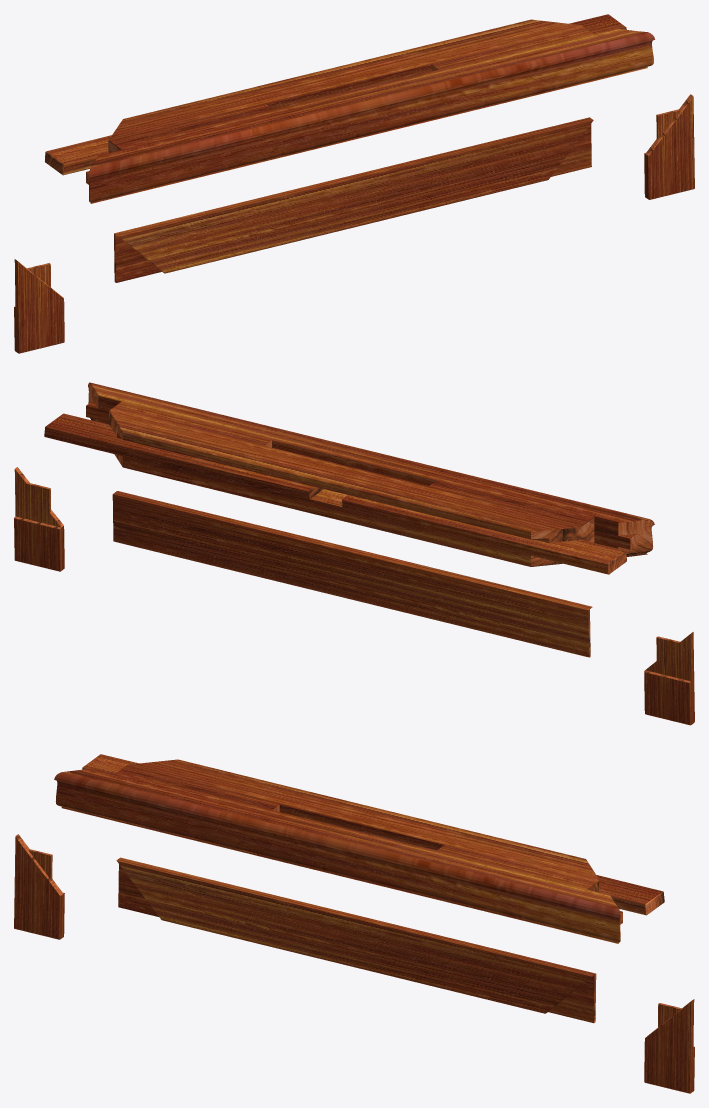
File: GMY_J_dabian_02.FBX
3 views of the same model, one above another, from view 1: azimuth 30°, elevation 25°; view 2: azimuth 150°, elevation 25°; view 3: azimuth 330°, elevation 25° (orthographic).
Parts seen in each view (by area): view 1: GMY_J_dabian_02, GMY_J_houyatiao, GMY_J_houyatou_01, GMY_J_houyatou_02; view 2: GMY_J_dabian_02, GMY_J_houyatiao, GMY_J_houyatou_01, GMY_J_houyatou_02; view 3: GMY_J_dabian_02, GMY_J_houyatiao, GMY_J_houyatou_02, GMY_J_houyatou_01.
Boxes of the visible parts, x1=… form: GMY_J_dabian_02: x1=45, y1=14, x2=654, y2=203; GMY_J_houyatiao: x1=114, y1=117, x2=593, y2=282; GMY_J_houyatou_01: x1=644, y1=94, x2=694, y2=199; GMY_J_houyatou_02: x1=14, y1=259, x2=64, y2=353; GMY_J_dabian_02: x1=44, y1=382, x2=654, y2=574; GMY_J_houyatiao: x1=112, y1=491, x2=592, y2=657; GMY_J_houyatou_01: x1=14, y1=467, x2=64, y2=571; GMY_J_houyatou_02: x1=644, y1=632, x2=694, y2=725; GMY_J_dabian_02: x1=54, y1=754, x2=664, y2=943; GMY_J_houyatiao: x1=116, y1=857, x2=596, y2=1023; GMY_J_houyatou_02: x1=14, y1=834, x2=64, y2=939; GMY_J_houyatou_01: x1=644, y1=999, x2=694, y2=1093.
Bounding box in the file's own units: 69.05 × 17.64 × 8.01.
